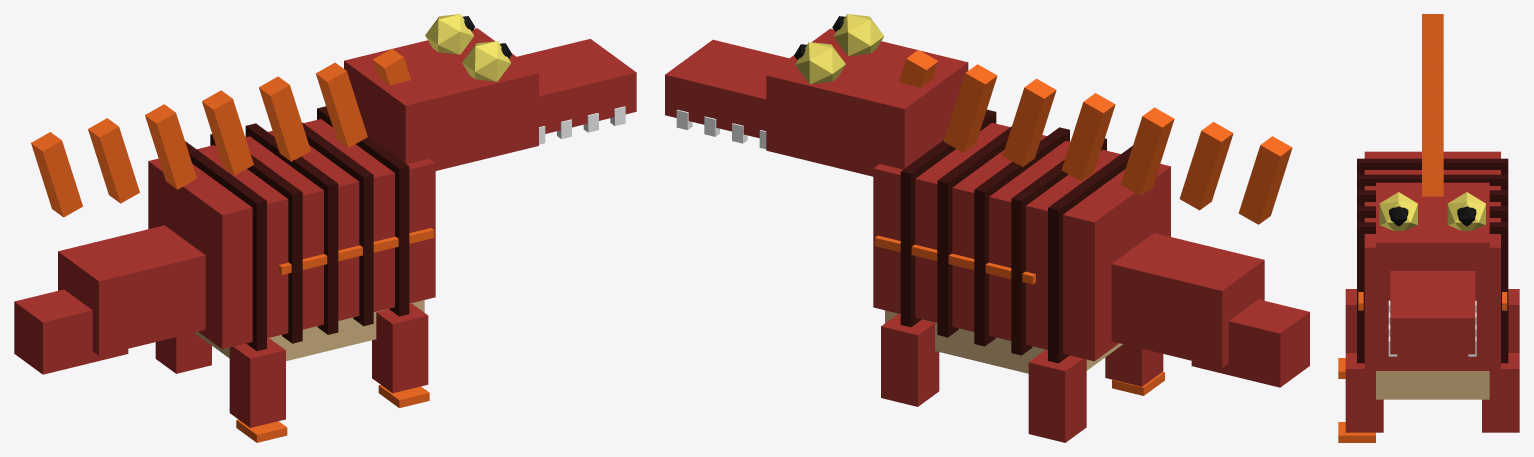
The model's file is level3.glb.
3 renders of one model, left to right at view 1: azimuth 30°, elevation 25°; view 2: azimuth 150°, elevation 25°; view 3: azimuth 270°, elevation 25°, orthographic. The views are drawn at different scales.
Size of the model in its own units: 2.3 by 1.17 by 0.672.
